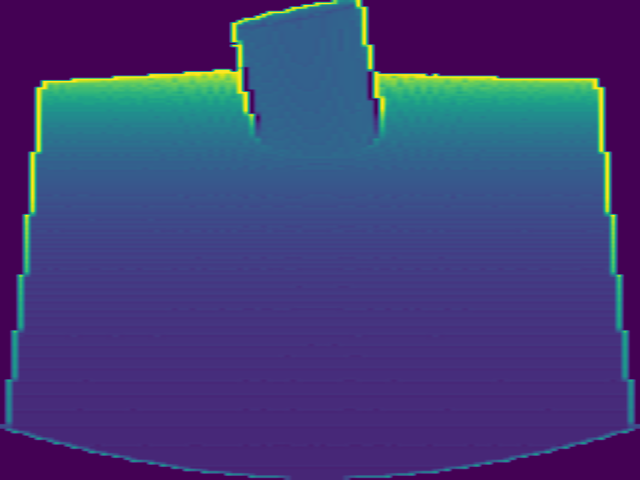cylinder: (229, 2, 385, 155)
